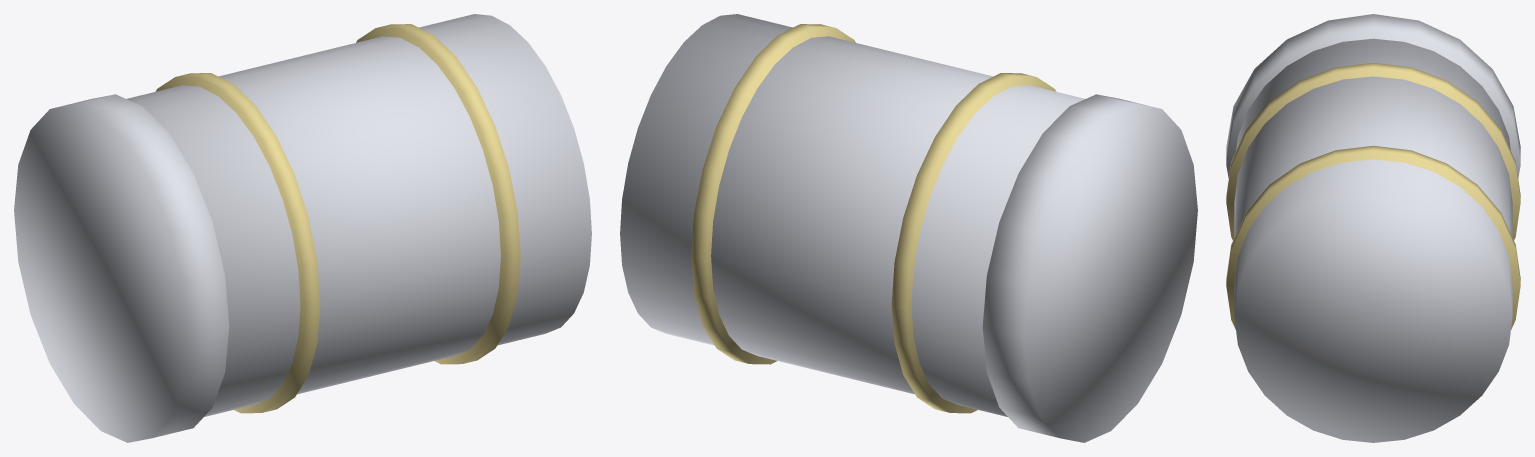
Rendered from endcap_gimbal.glb.
The picture shows the model from 3 angles, left to right: view 1: azimuth 30°, elevation 25°; view 2: azimuth 150°, elevation 25°; view 3: azimuth 270°, elevation 25°; orthographic projection. The views are drawn at different scales.
Parts seen in each view (by area): view 1: body, end_plate, ring0, ring1; view 2: body, end_plate, ring0, ring1; view 3: body, end_plate, ring1, ring0.
Boxes of the visible parts, left/top/right/bottom form: body: left=127, top=14, right=591, bottom=416; end_plate: left=14, top=94, right=229, bottom=442; ring0: left=155, top=73, right=320, bottom=413; ring1: left=356, top=24, right=520, bottom=364; body: left=620, top=14, right=1084, bottom=416; end_plate: left=982, top=94, right=1197, bottom=442; ring0: left=891, top=73, right=1056, bottom=413; ring1: left=691, top=24, right=855, bottom=364; body: left=1234, top=38, right=1512, bottom=442; end_plate: left=1226, top=14, right=1520, bottom=177; ring1: left=1226, top=145, right=1520, bottom=329; ring0: left=1226, top=62, right=1520, bottom=240.
Size of the model in its own units: 0.49 by 0.36 by 0.36.
